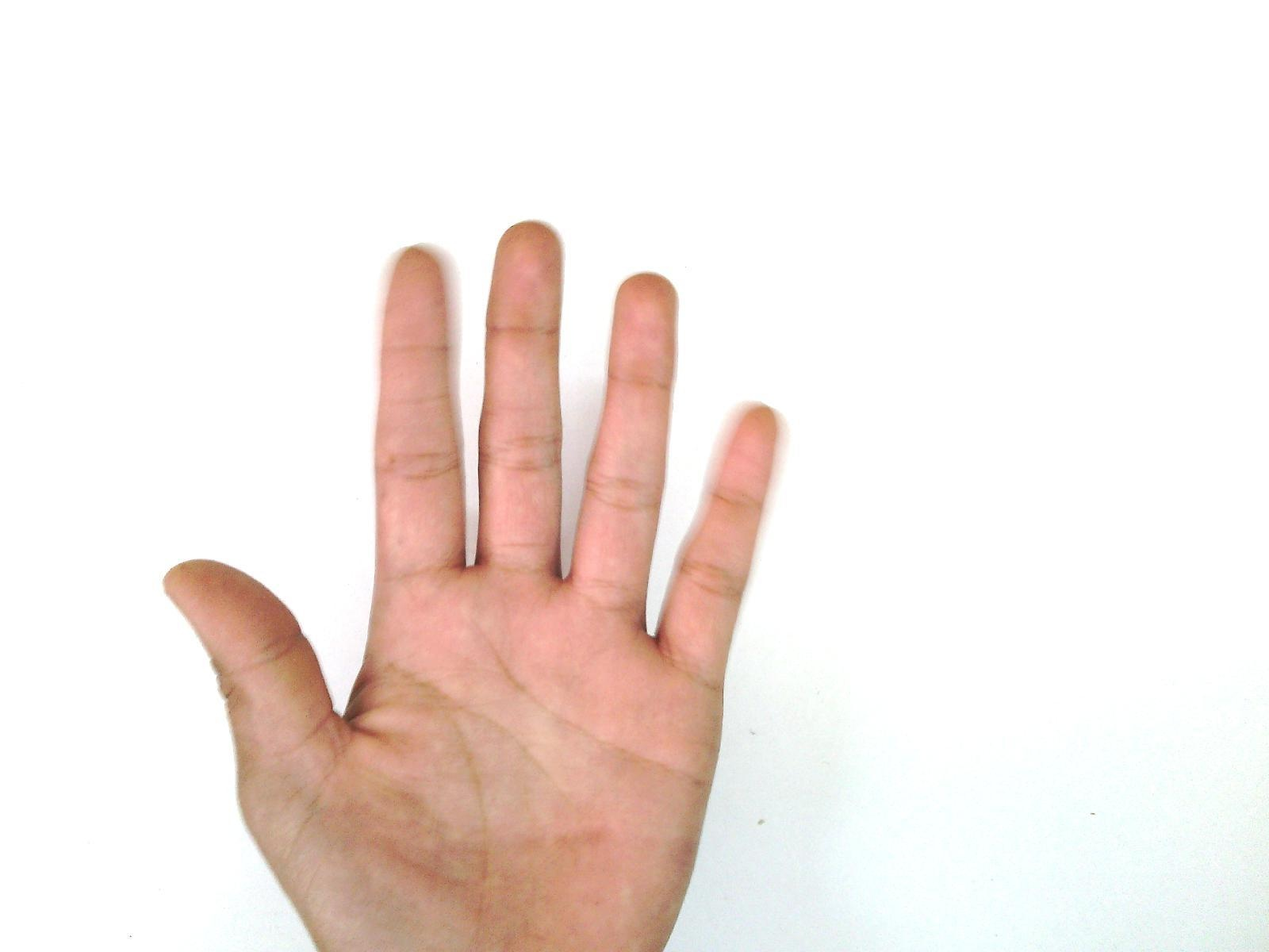open_palm: (162, 220, 788, 951)
